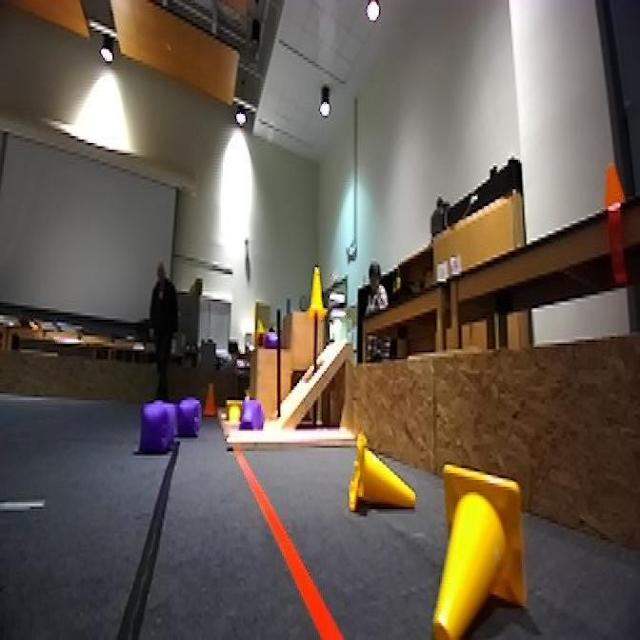frc_cone: (430, 466, 521, 638), (348, 429, 417, 516), (308, 265, 328, 315), (222, 402, 245, 424)
frc_cube: (140, 404, 176, 456), (179, 398, 201, 438), (239, 397, 258, 427), (265, 327, 281, 349)
